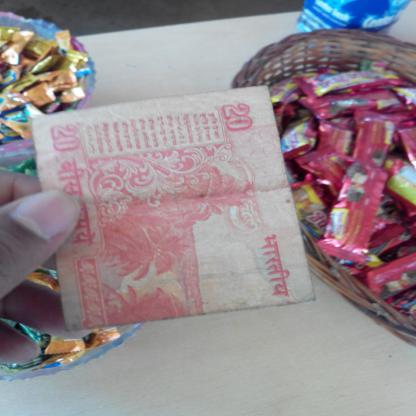Old20Back: (42, 108, 297, 313)
